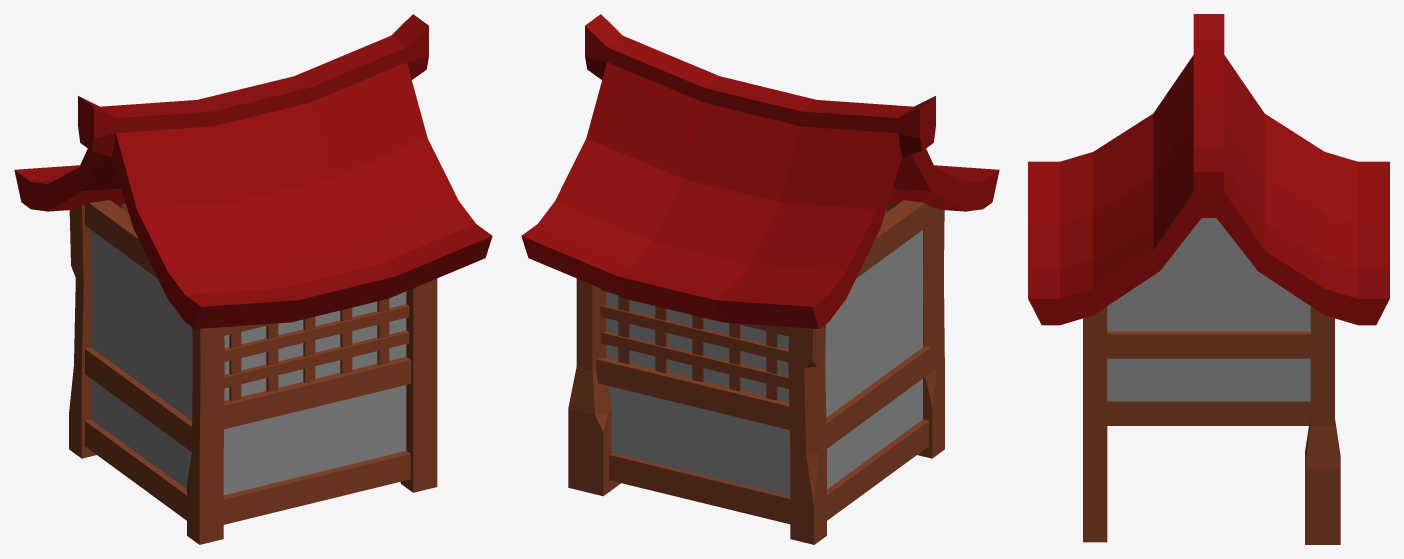
The model's file is Building_02.FBX.
3 renders of one model, left to right at view 1: azimuth 30°, elevation 25°; view 2: azimuth 150°, elevation 25°; view 3: azimuth 270°, elevation 25°, orthographic. The views are drawn at different scales.
Parts seen in each view (by area): view 1: Building_02; view 2: Building_02; view 3: Building_02.
Boxes of the visible parts, left/top/right/bottom form: Building_02: left=14, top=14, right=492, bottom=544; Building_02: left=521, top=14, right=999, bottom=544; Building_02: left=1028, top=14, right=1389, bottom=544.
Size of the model in its own units: 65.63 by 76.29 by 63.57.
